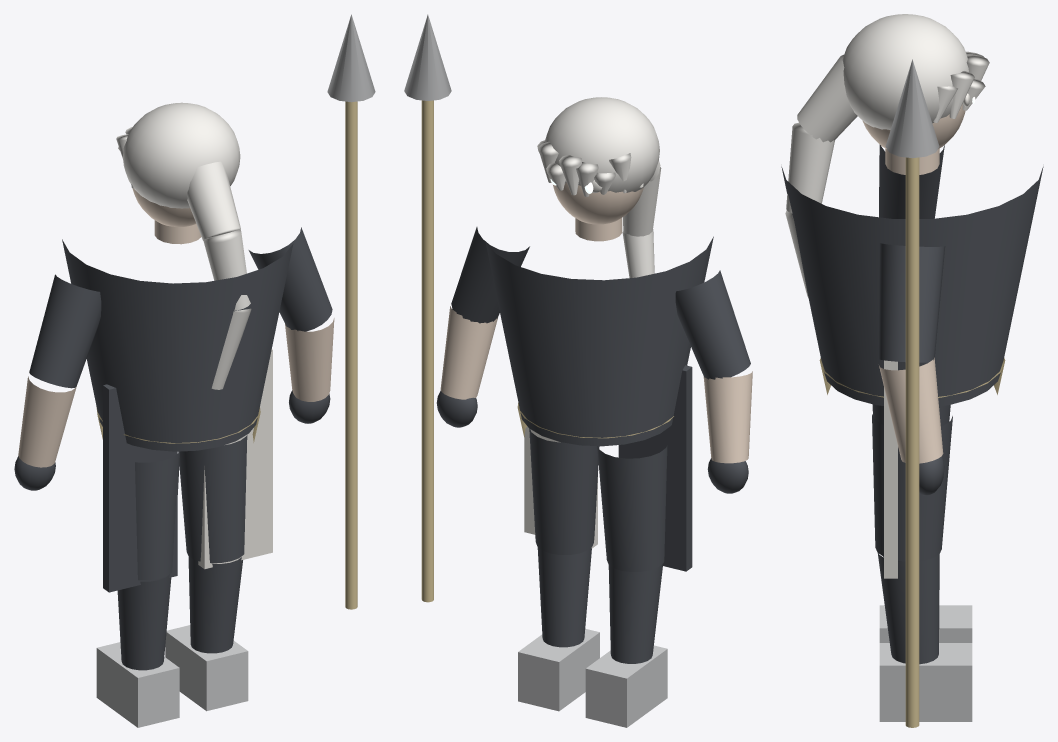
Rendered from kazrin-procedural-v1.glb.
3 views of the same model, side by side, from view 1: azimuth 30°, elevation 25°; view 2: azimuth 150°, elevation 25°; view 3: azimuth 270°, elevation 25° (orthographic). The views are drawn at different scales.
Parts seen in each view (by area): view 1: Outfit_Torso, Hair_Cap, Outfit_CoatTail_L, Body_Thigh_R, Weapon_SpearShaft, Body_UpperArm_L, Outfit_CoatTail_R, Outfit_Boot_L, Body_Thigh_L, Outfit_Boot_R, Body_Shin_R, Body_Shin_L (+11 smaller); view 2: Outfit_Torso, Body_Thigh_L, Body_Thigh_R, Hair_Cap, Weapon_SpearShaft, Outfit_CoatTail_L, Body_UpperArm_L, Outfit_Boot_L, Outfit_Boot_R, Body_Shin_R, Body_Shin_L, Body_Forearm_L (+11 smaller); view 3: Outfit_Torso, Hair_Cap, Weapon_SpearShaft, Outfit_Boot_R, Body_UpperArm_R, Body_Thigh_R, Body_Shin_R, Body_Forearm_R, Weapon_SpearHead, Hair_Ponytail_0, Hair_Ponytail_1, Outfit_CoatTail_R (+8 smaller).
Boxes of the visible parts, box(x1,y1,x2,y2) form: Outfit_Torso: box(62, 239, 293, 451); Hair_Cap: box(122, 102, 240, 208); Outfit_CoatTail_L: box(103, 384, 177, 592); Body_Thigh_R: box(178, 435, 247, 563); Weapon_SpearShaft: box(345, 101, 357, 609); Body_UpperArm_L: box(29, 274, 101, 388); Outfit_CoatTail_R: box(198, 349, 272, 569); Outfit_Boot_L: box(96, 642, 179, 727); Body_Thigh_L: box(135, 451, 180, 580); Outfit_Boot_R: box(165, 625, 248, 711); Body_Shin_R: box(188, 556, 242, 653); Body_Shin_L: box(117, 574, 171, 670); Outfit_Torso: box(485, 236, 713, 446); Body_Thigh_L: box(597, 445, 667, 571); Body_Thigh_R: box(529, 428, 599, 554); Hair_Cap: box(545, 97, 659, 192); Weapon_SpearShaft: box(421, 100, 433, 602); Outfit_CoatTail_L: box(618, 365, 692, 571); Body_UpperArm_L: box(675, 270, 750, 379); Outfit_Boot_L: box(585, 645, 667, 727); Outfit_Boot_R: box(518, 628, 599, 711); Body_Shin_R: box(537, 547, 591, 647); Body_Shin_L: box(608, 564, 662, 663); Body_Forearm_L: box(703, 371, 752, 463); Outfit_Torso: box(781, 166, 1043, 406); Hair_Cap: box(842, 14, 968, 129); Weapon_SpearShaft: box(905, 157, 919, 727); Outfit_Boot_R: box(879, 643, 972, 721); Body_UpperArm_R: box(879, 243, 945, 362); Body_Thigh_R: box(872, 414, 952, 561); Body_Shin_R: box(877, 553, 939, 664); Body_Forearm_R: box(879, 357, 943, 463); Weapon_SpearHead: box(885, 59, 939, 158); Hair_Ponytail_0: box(797, 54, 857, 142); Hair_Ponytail_1: box(786, 122, 834, 213); Outfit_CoatTail_R: box(884, 360, 897, 578).
Bounding box in the file's own units: 1.16 × 2.05 × 0.6724.
